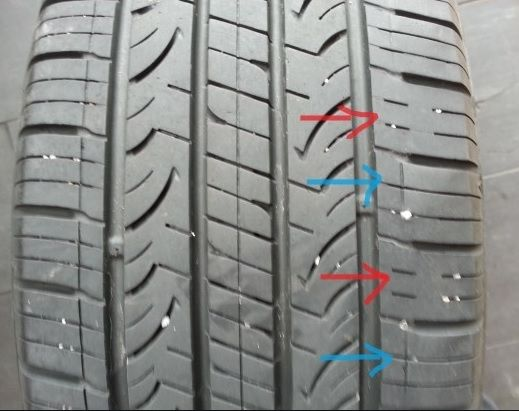middle_condition: (14, 2, 486, 411)
